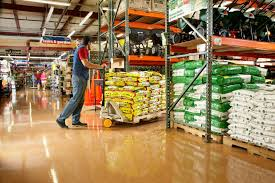Pallet Jack: (97, 68, 161, 129)
